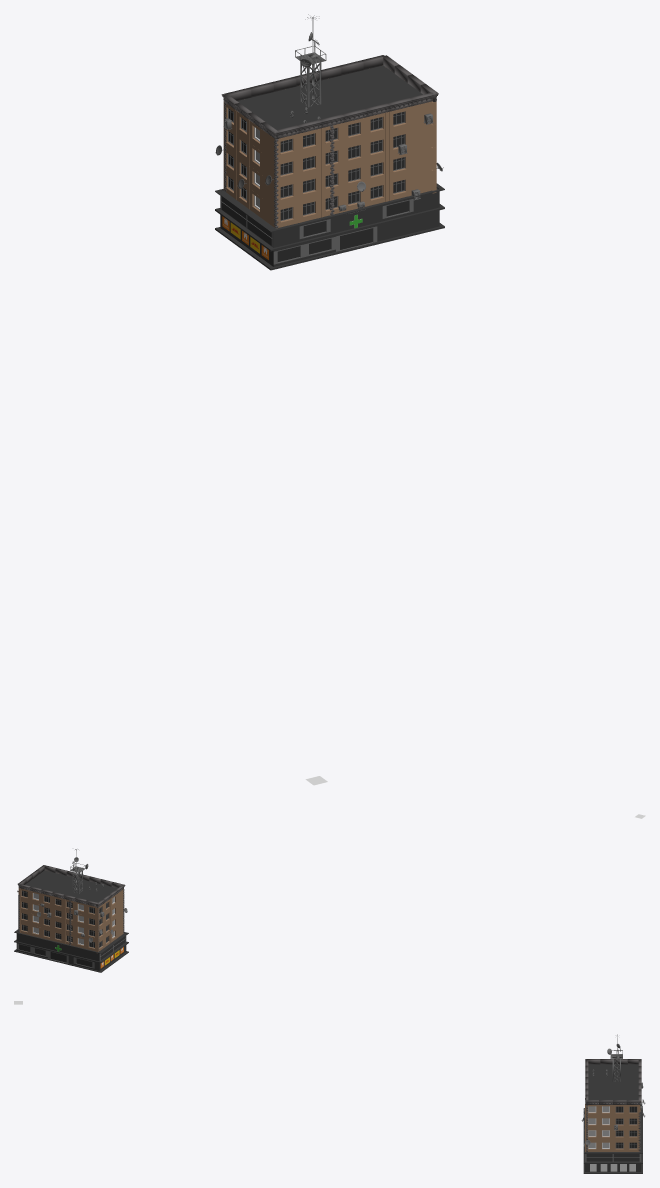
Rendered from gefixt.fbx.
3 views of the same model, one above another, from view 1: azimuth 30°, elevation 25°; view 2: azimuth 150°, elevation 25°; view 3: azimuth 270°, elevation 25° (orthographic). The views are drawn at different scales.
Parts seen in each view (by area): view 1: Reclame poster mondkapjes[5590]; view 2: Reclame poster mondkapjes[5590]; view 3: Reclame poster mondkapjes[5590].
Part boxes in pixels (x1=…): Reclame poster mondkapjes[5590]: x1=215, y1=14, x2=444, y2=270; Reclame poster mondkapjes[5590]: x1=14, y1=849, x2=128, y2=972; Reclame poster mondkapjes[5590]: x1=581, y1=1034, x2=645, y2=1173.
Size of the model in its own units: 9245 by 2783 by 14229.
